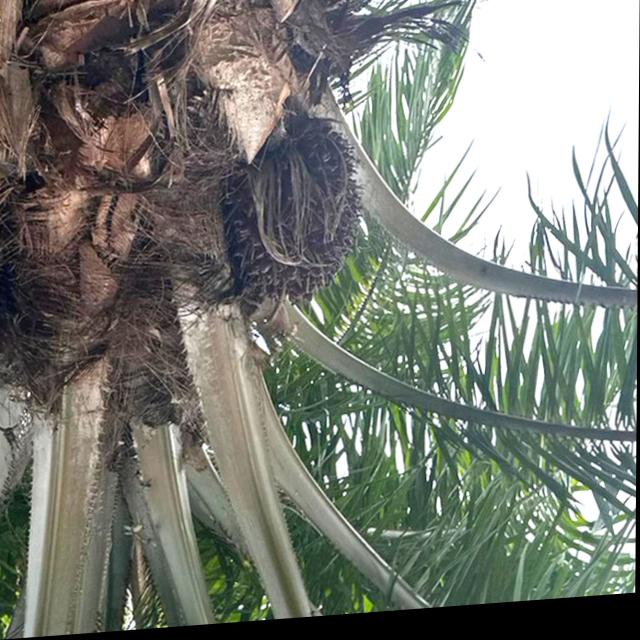ripe: (221, 130, 372, 318)
